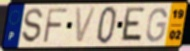0: (95, 5, 118, 46)
E: (119, 6, 147, 44)
F: (41, 7, 69, 45)
G: (144, 6, 168, 44)
S: (21, 8, 44, 45)
V: (74, 6, 99, 45)
